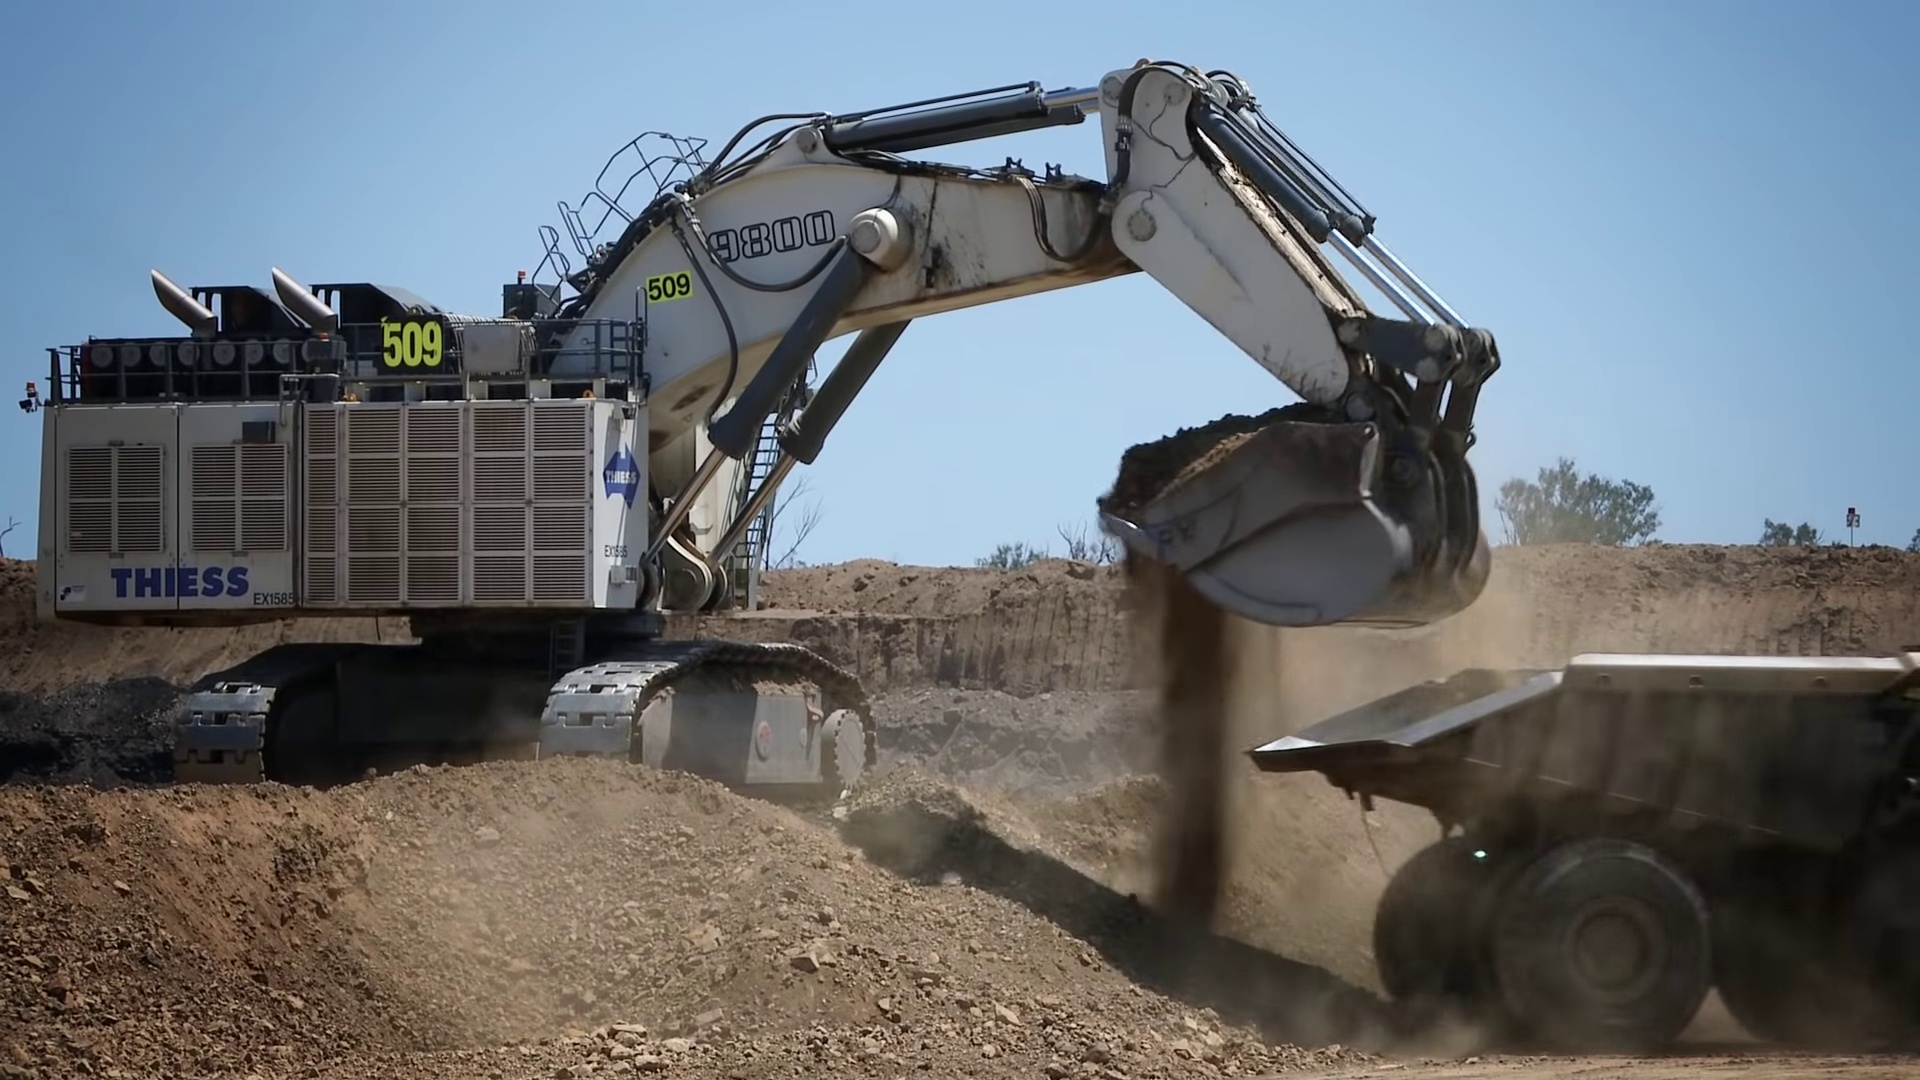dumper: (1244, 650, 1916, 1048)
excavator: (20, 58, 1497, 789)
